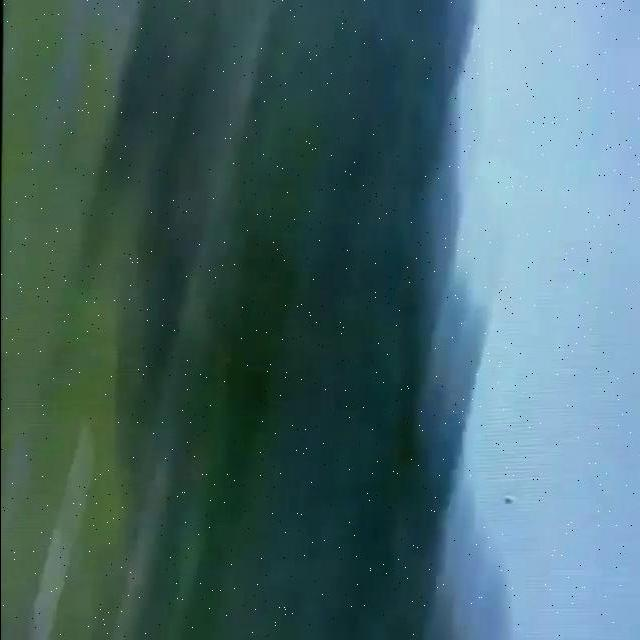golf ball: (504, 494, 513, 505)
